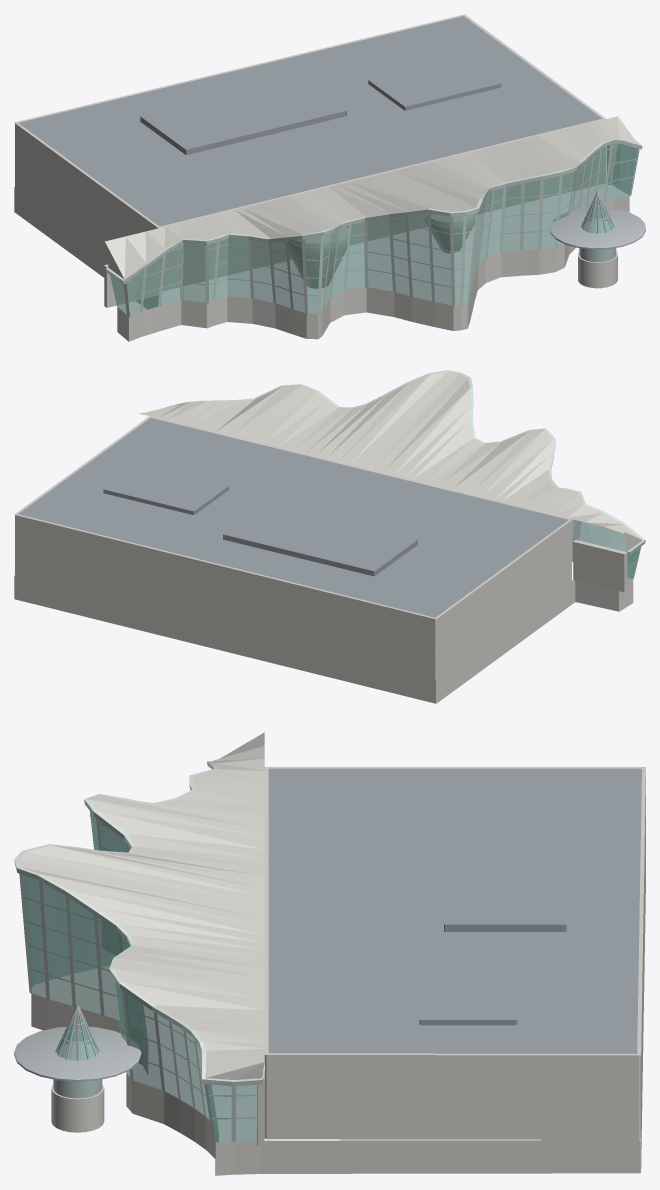
Rendered from tokyo-national-art-center.glb.
3 renders of one model, top to bottom at view 1: azimuth 30°, elevation 25°; view 2: azimuth 150°, elevation 25°; view 3: azimuth 270°, elevation 25°, orthographic. The views are drawn at different scales.
Visible parts, largest first — view 1: The National Art Center, Tokyo; view 2: The National Art Center, Tokyo; view 3: The National Art Center, Tokyo.
Boxes of the visible parts, x1,y1,x2,y2 form: The National Art Center, Tokyo: (14, 14, 645, 341); The National Art Center, Tokyo: (14, 370, 645, 703); The National Art Center, Tokyo: (14, 732, 645, 1175).
Bounding box in the file's own units: 161 × 36.5 × 129.
